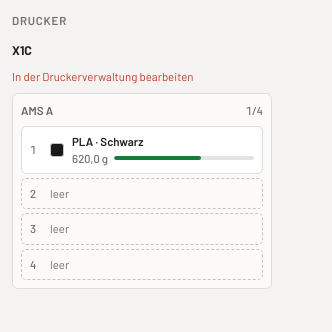
Test case: PrinterColumn › filters the spools offered in the menu
Click the button with test id "slot-u1-1" at (142, 194), box top-left (21, 178), bottom-right (263, 209)
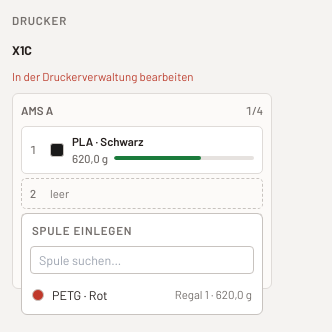
Type "abs" into the field with placeholder "Spule suchen…" at (142, 260), box top-left (30, 246), bottom-right (254, 274)
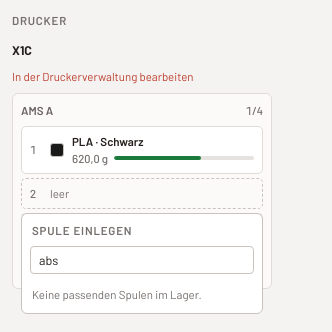
Now the text "Keine passenden Spulen im Lager." is shown, box top-left (32, 286), bottom-right (202, 300)
